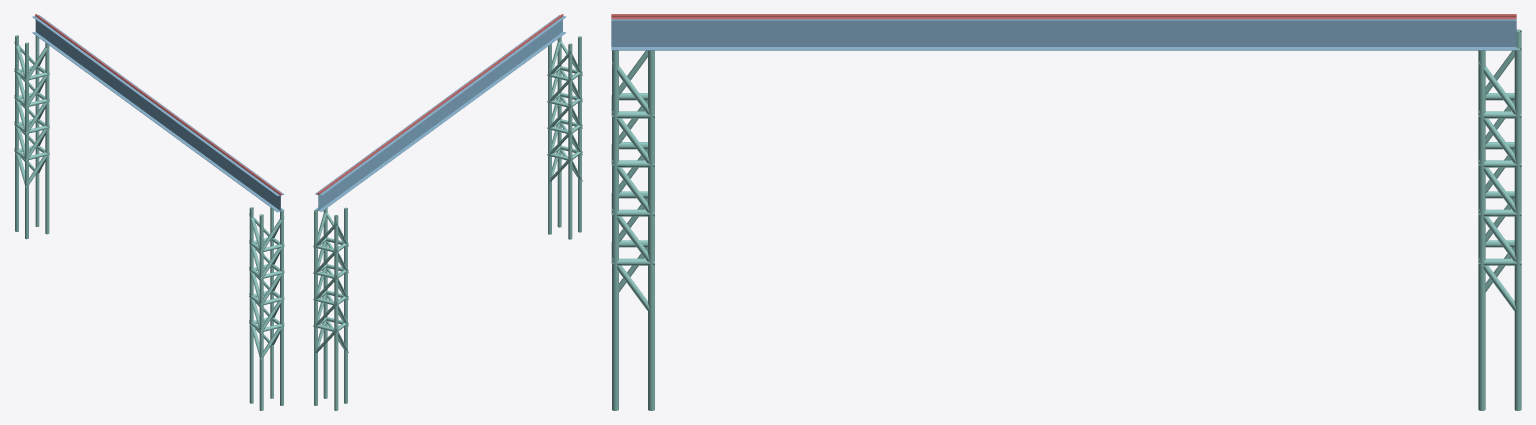
Rendered from Crane_Rail01.fbx.
3 renders of one model, left to right at view 1: azimuth 30°, elevation 25°; view 2: azimuth 150°, elevation 25°; view 3: azimuth 270°, elevation 25°, orthographic. The views are drawn at different scales.
Parts seen in each view (by area): view 1: GuiDao02a, ZhiJia03, ZhiJia01, GuiDao02b; view 2: GuiDao02a, ZhiJia01, ZhiJia03, GuiDao02b; view 3: GuiDao02a, ZhiJia01, ZhiJia03, GuiDao02b.
Boxes of the visible parts, x1,y1,x2,y2 form: GuiDao02a: [32, 15, 284, 212]; ZhiJia03: [249, 207, 284, 410]; ZhiJia01: [14, 35, 49, 239]; GuiDao02b: [35, 14, 282, 195]; GuiDao02a: [315, 15, 566, 211]; ZhiJia01: [313, 207, 348, 410]; ZhiJia03: [547, 36, 582, 239]; GuiDao02b: [316, 14, 563, 194]; GuiDao02a: [611, 19, 1516, 50]; ZhiJia01: [1478, 29, 1521, 410]; ZhiJia03: [611, 50, 654, 410]; GuiDao02b: [611, 14, 1516, 19].
Bounding box in the file's own units: 1.4 × 12.01 × 25.21.
